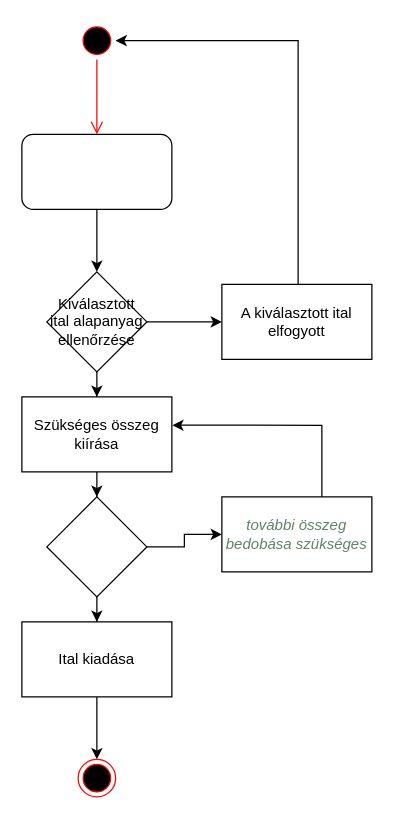
Some shapes in this 394 by 819 pixel diagram are drawn without their labels. Here are the shapes that lost their labels. From the top down, the centre of each, then its label:
At point (96, 171): "Ital kiválasztása".
At point (96, 546): "Összeg vizsgálata".
